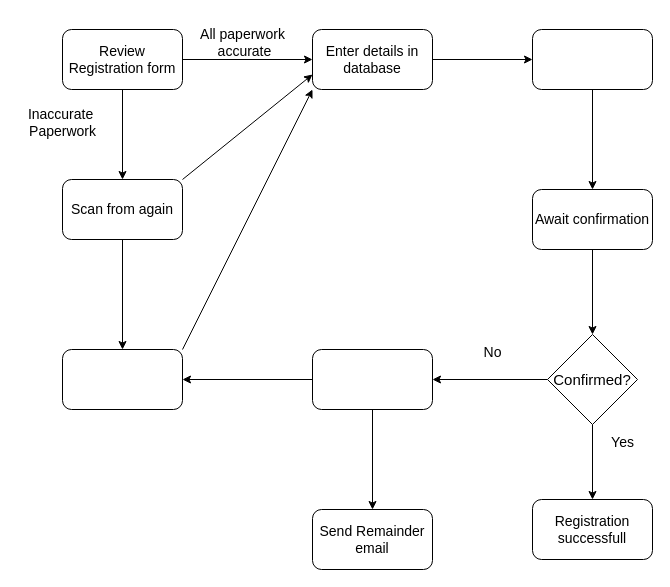
The diagram is 670 pixels wide and 587 high, and some of its shapes have lost their labels. Each missing label, with the box of its shape:
Check email address again: (312, 348, 432, 410)
Contact studentation: (62, 348, 182, 410)
Send 'Registration successfull' email: (532, 28, 652, 90)
